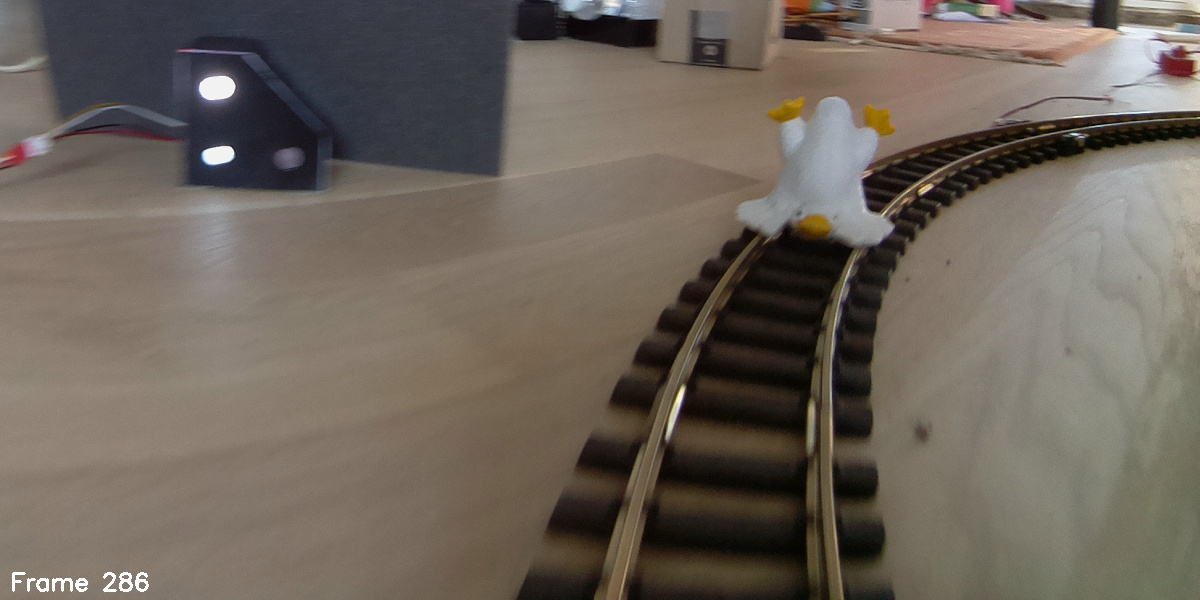Fahrt: (176, 49, 331, 190)
